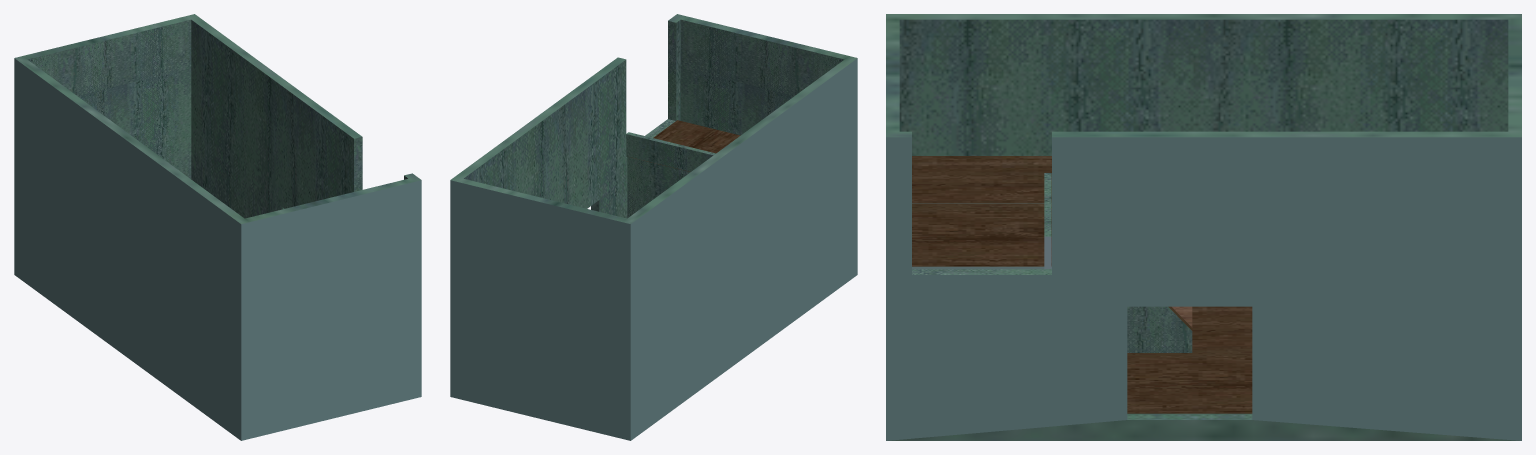
File: stairs room.fbx
The picture shows the model from 3 angles, left to right: view 1: azimuth 30°, elevation 25°; view 2: azimuth 150°, elevation 25°; view 3: azimuth 270°, elevation 25°; orthographic projection. The views are drawn at different scales.
Visible parts, largest first — view 1: Cube.077; view 2: Cube.077; view 3: Cube.077.
Part boxes in pixels (x1,y1,x2,y2): Cube.077: (14, 14, 421, 440); Cube.077: (450, 14, 857, 440); Cube.077: (886, 14, 1521, 440).
Size of the model in its own units: 200 by 229 by 435.
7 materials, 3 textured.
